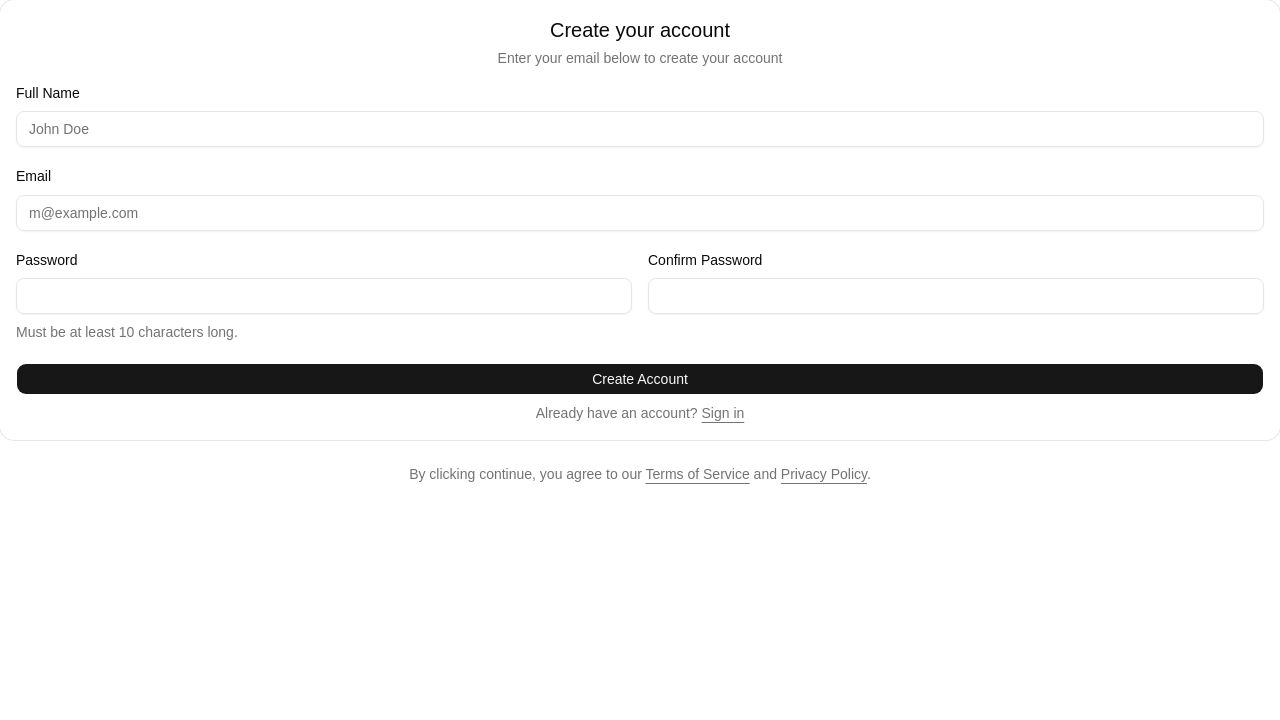
Test: SignupForm › shows the API error message when registration fails
In the field labelled "Full Name": (640, 129) [16,111,1264,147], type "Jane Doe"
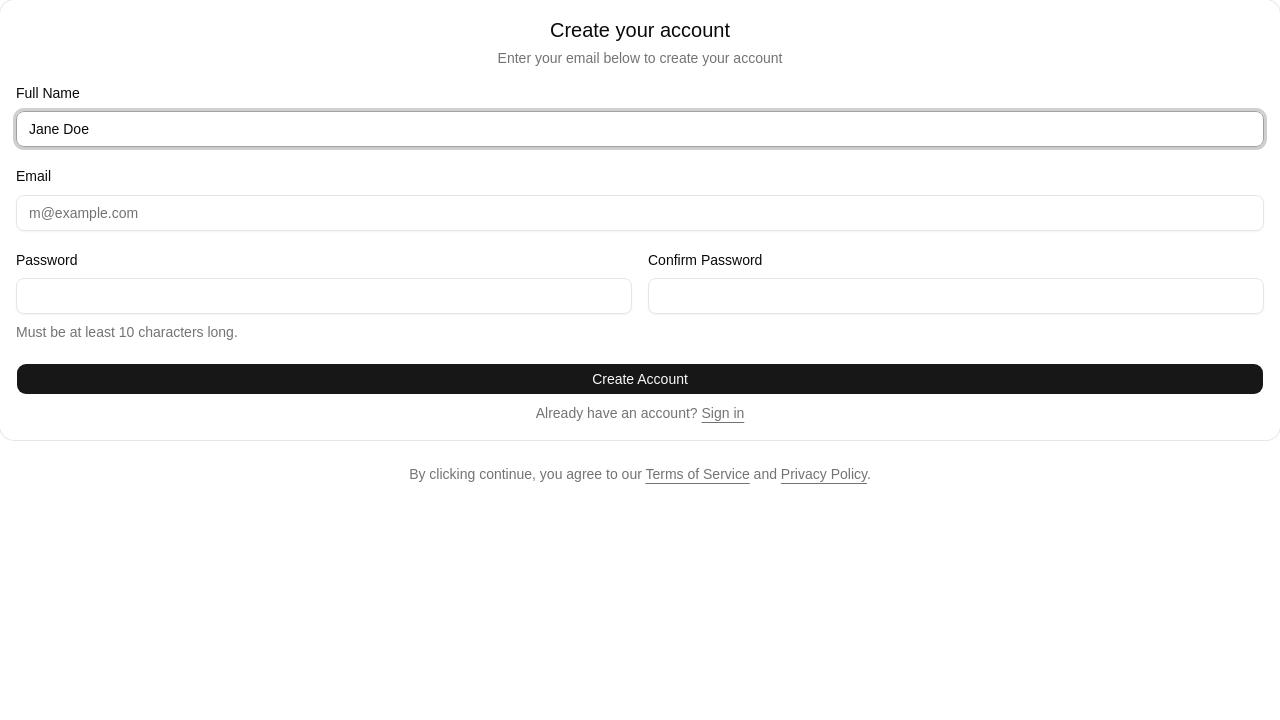
In the field labelled "Email": (640, 212) [16,194,1264,230], type "jane@example.com"
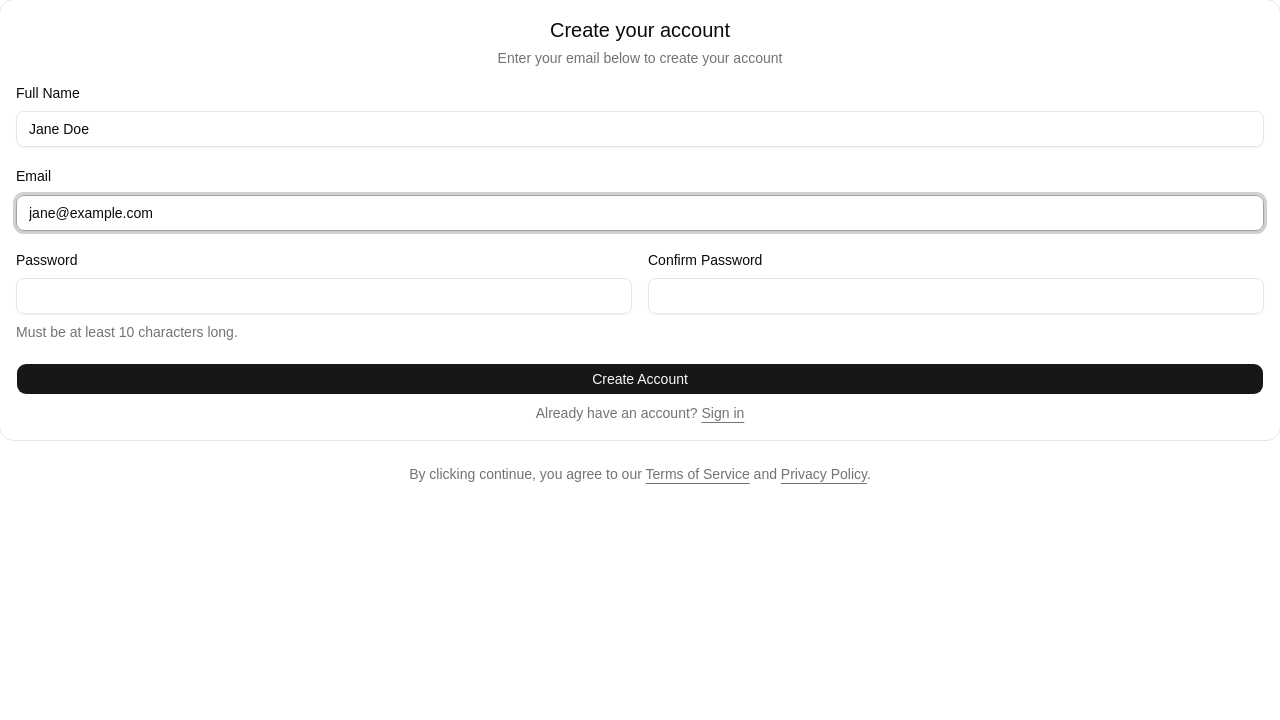
In the password field labelled "Password": (324, 296) [16,278,632,314], type "password123"
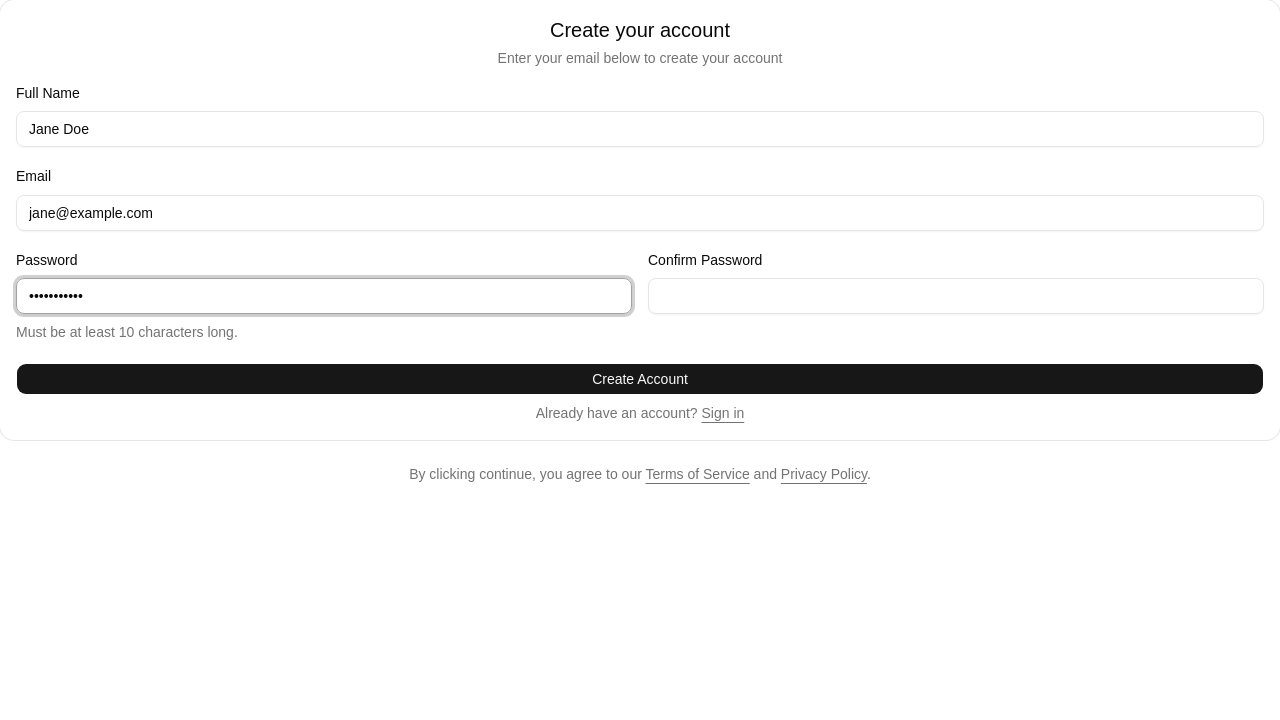
In the password field labelled "Confirm Password": (956, 296) [648,278,1264,314], type "password123"
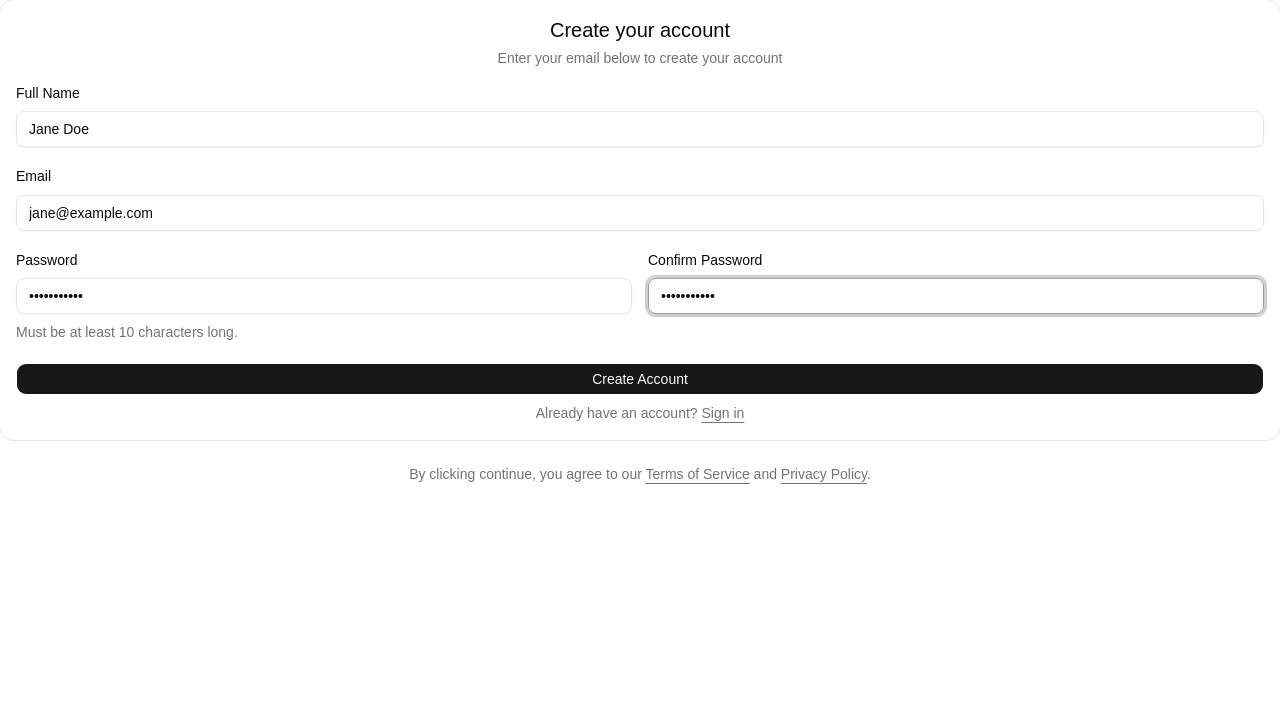
Click the button "Create Account": (640, 379) [16,363,1264,395]
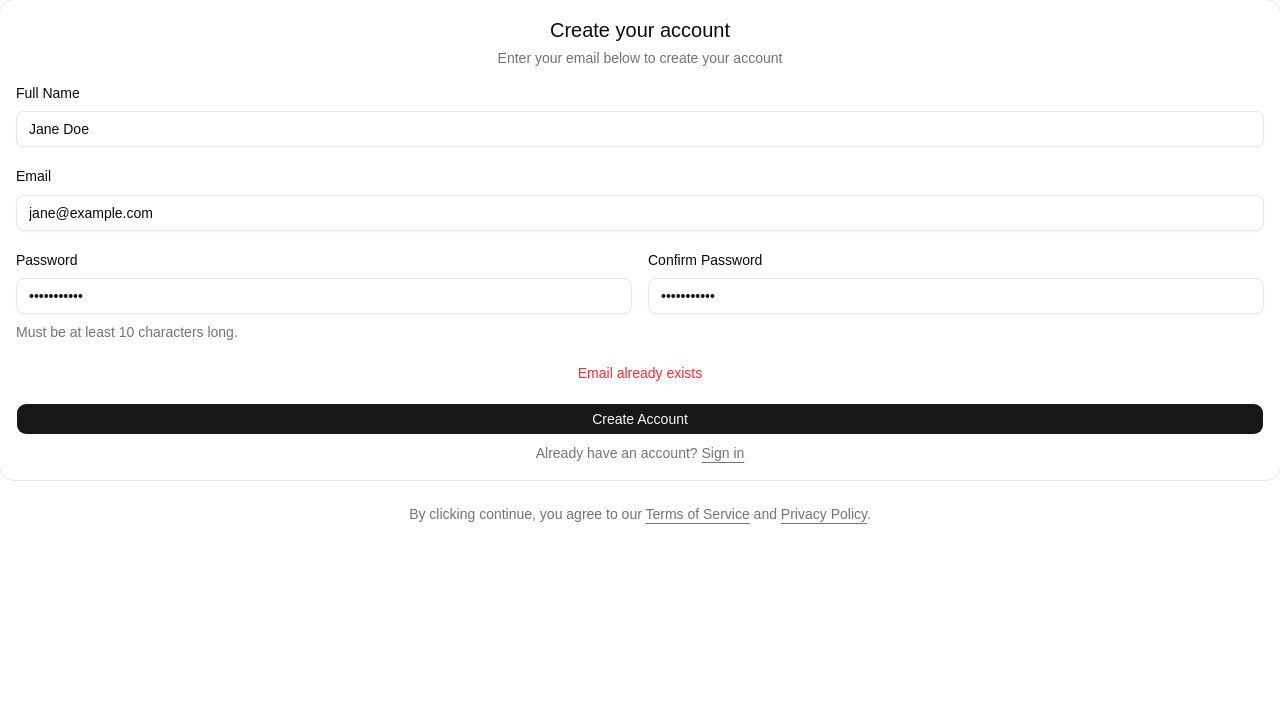
Check: the text "Email already exists" is shown, box [578,365,702,381]
